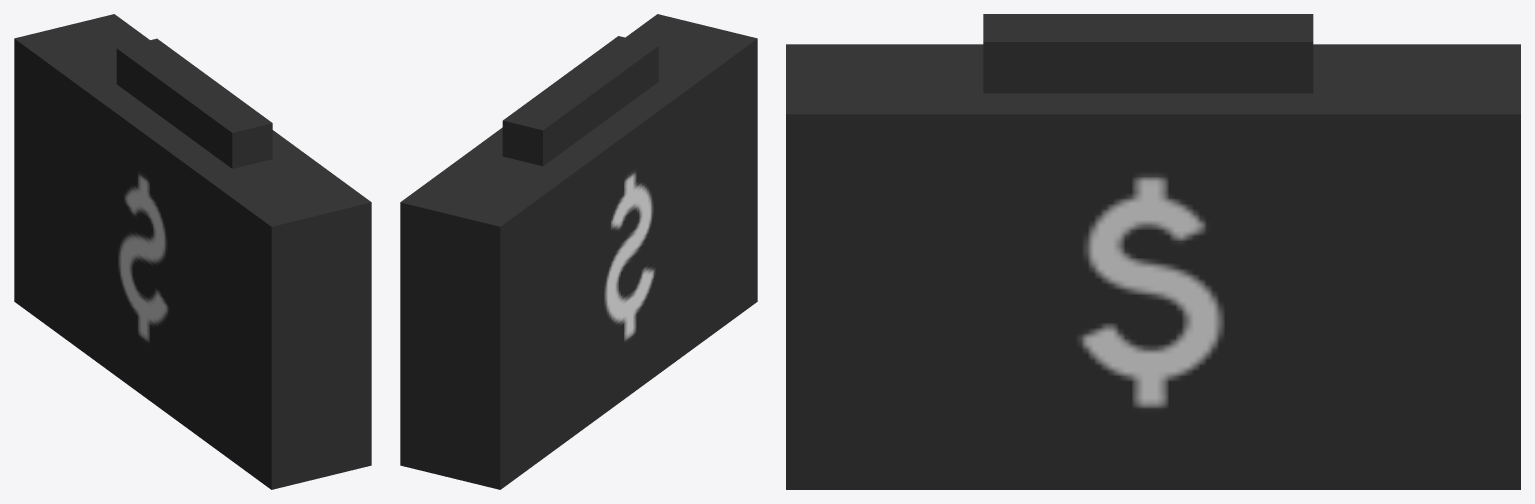
The model's file is bag.fbx.
The picture shows the model from 3 angles, left to right: view 1: azimuth 30°, elevation 25°; view 2: azimuth 150°, elevation 25°; view 3: azimuth 270°, elevation 25°; orthographic projection. The views are drawn at different scales.
Visible parts, largest first — view 1: polySurface33; view 2: polySurface33; view 3: polySurface33.
Boxes of the visible parts, x1,y1,x2,y2 form: polySurface33: (14, 14, 371, 489); polySurface33: (400, 14, 757, 489); polySurface33: (786, 14, 1520, 489).
Bounding box in the file's own units: 1.13 × 3.21 × 5.
1 material, 1 textured.
